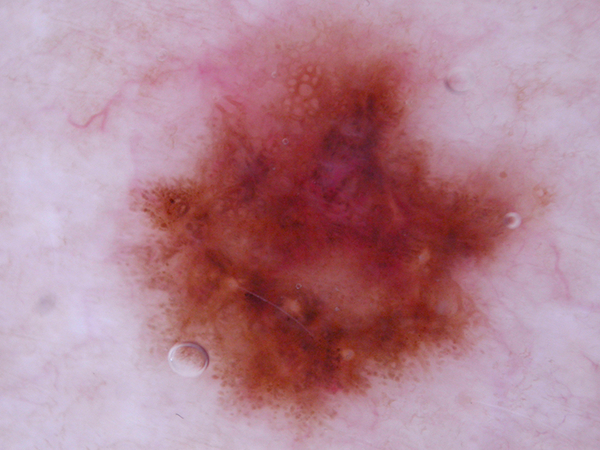Detected Lesion: (120, 44, 514, 422)
